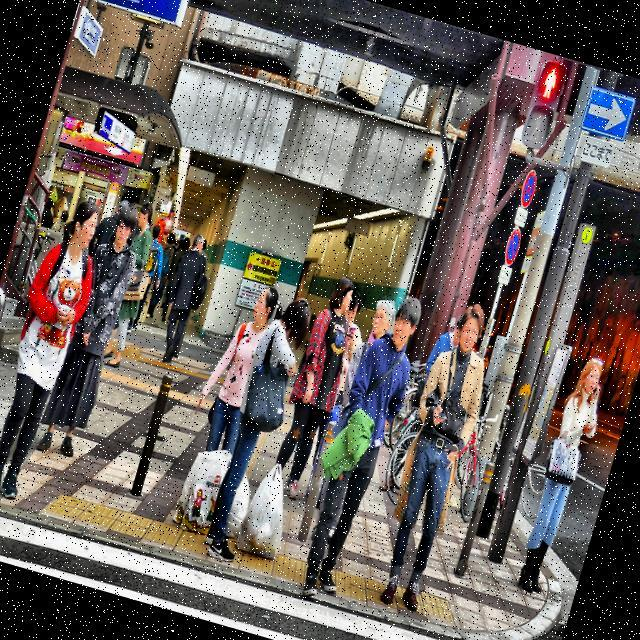red_light: (538, 65, 560, 102)
